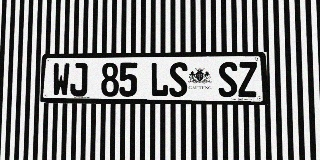5: (119, 62, 137, 97)
8: (101, 63, 119, 97)
J: (70, 63, 88, 96)
L: (150, 62, 168, 97)
S: (218, 62, 238, 97), (169, 62, 188, 97)
W: (52, 63, 70, 96)
Z: (238, 62, 258, 97)
